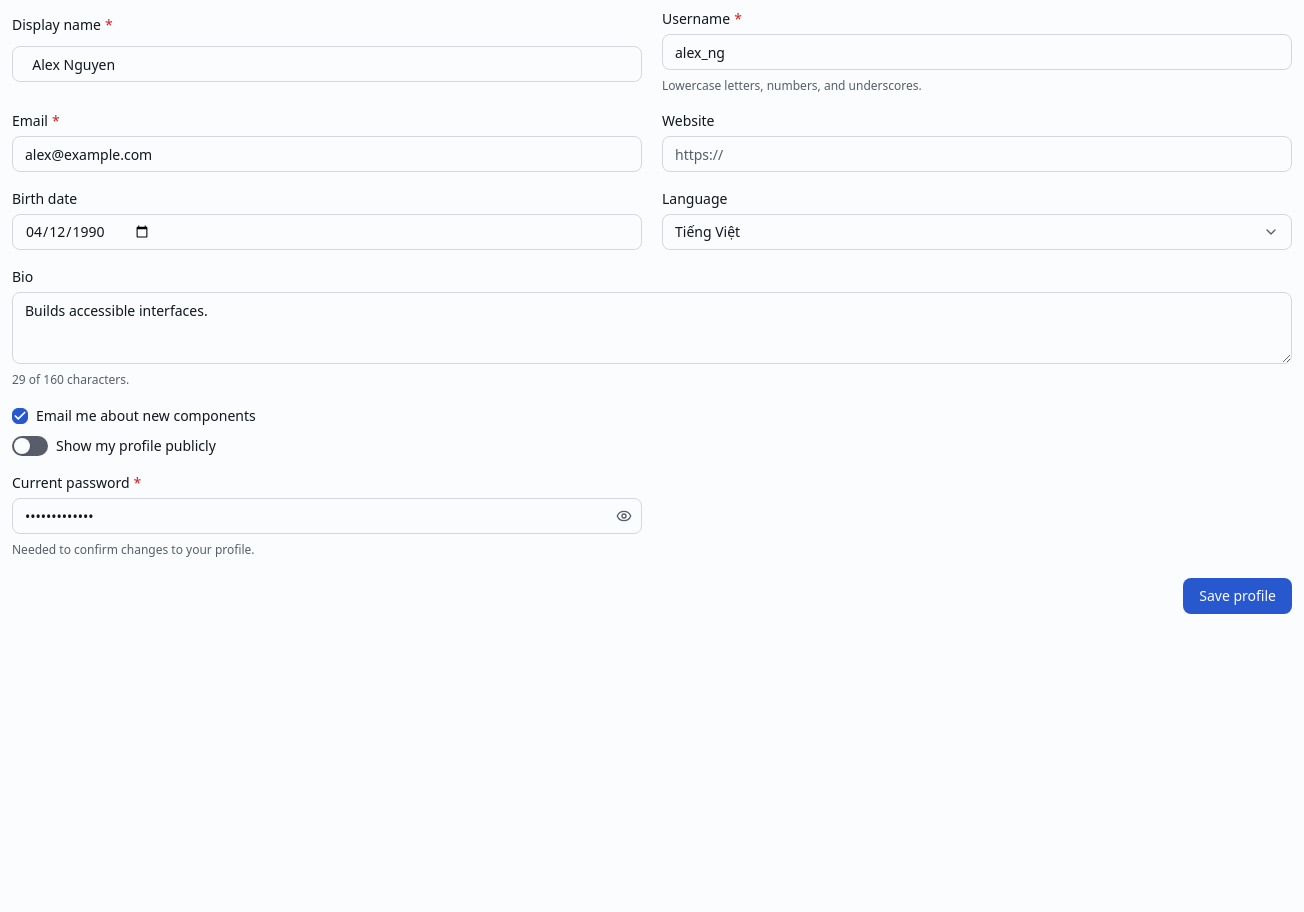
Test: ProfileForm › shows a server field error on its field and focuses it
Step 1. Click the button "Save profile" → [1238, 596], box [1183,578,1292,614]
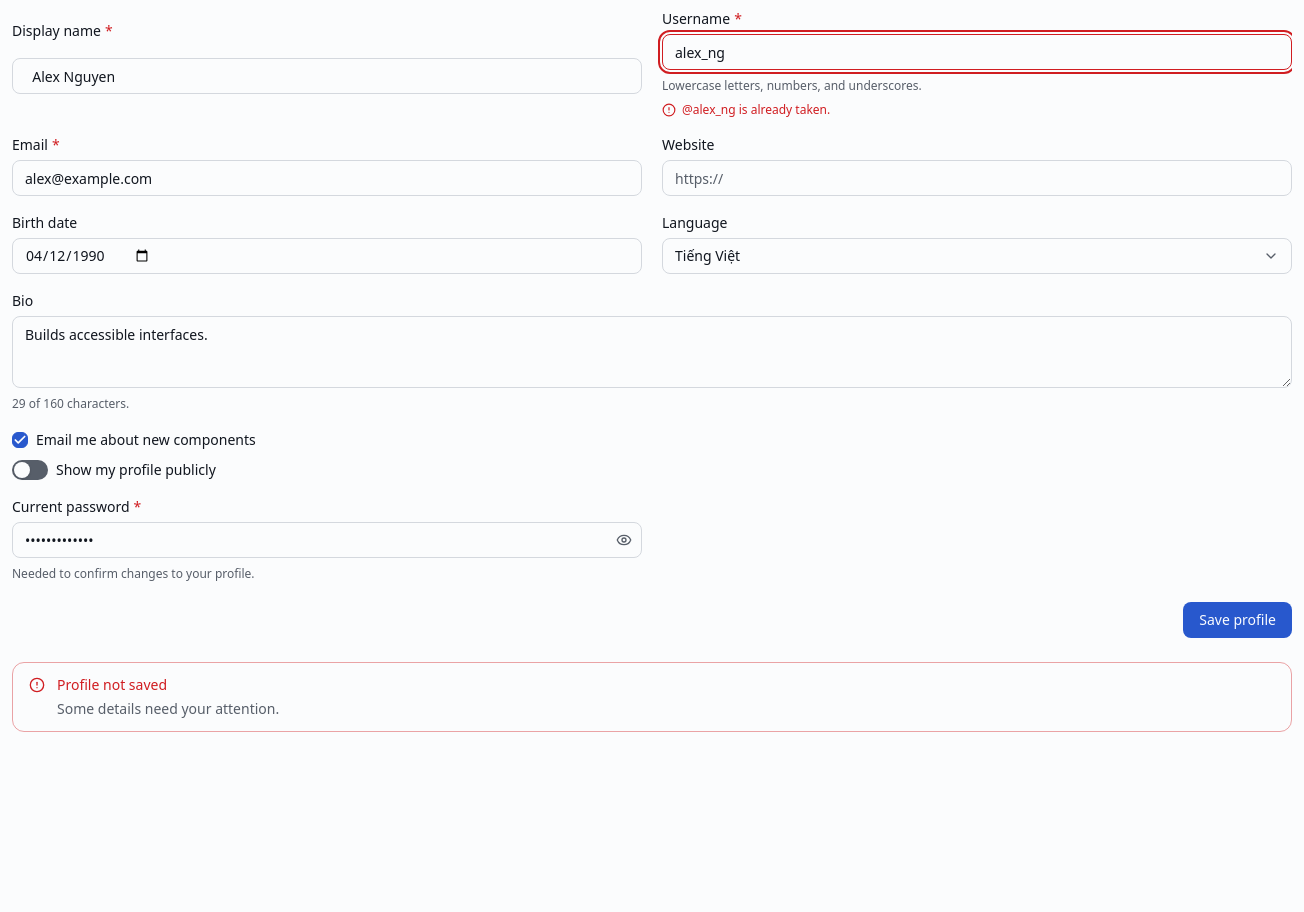
Expected: the text "Profile not saved" is shown, [57,675,167,694]
Expected: the message shows "Some details need your attention.", [57,699,279,718]
